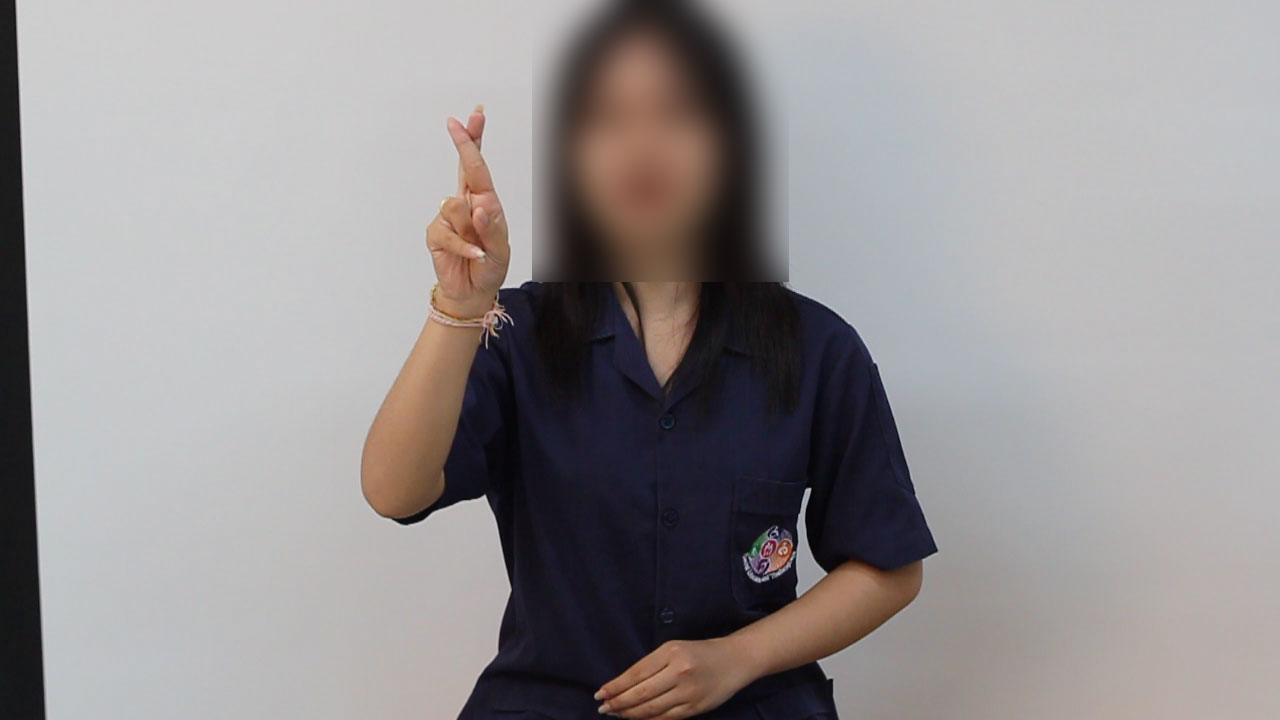rao: (400, 100, 530, 333)
